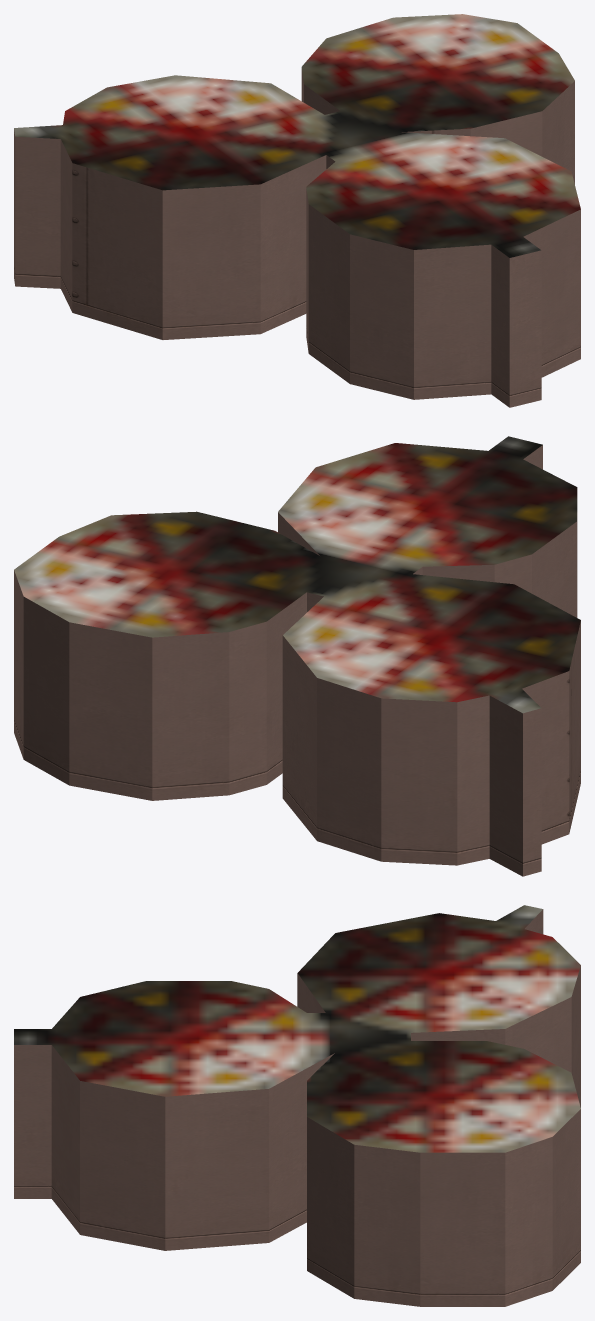
Rendered from fuel_tank_heavy_40.glb.
3 views of the same model, one above another, from view 1: azimuth 30°, elevation 25°; view 2: azimuth 150°, elevation 25°; view 3: azimuth 270°, elevation 25° (orthographic). The views are drawn at different scales.
Parts seen in each view (by area): view 1: buildings/saxarba/fuel_tanks/fuel_tank_heavy_40; view 2: buildings/saxarba/fuel_tanks/fuel_tank_heavy_40; view 3: buildings/saxarba/fuel_tanks/fuel_tank_heavy_40.
Part boxes in pixels (x1,y1,x2,y2): buildings/saxarba/fuel_tanks/fuel_tank_heavy_40: (14, 14, 580, 407); buildings/saxarba/fuel_tanks/fuel_tank_heavy_40: (14, 436, 580, 876); buildings/saxarba/fuel_tanks/fuel_tank_heavy_40: (14, 905, 580, 1306).
Size of the model in its own units: 62 by 18 by 60.
